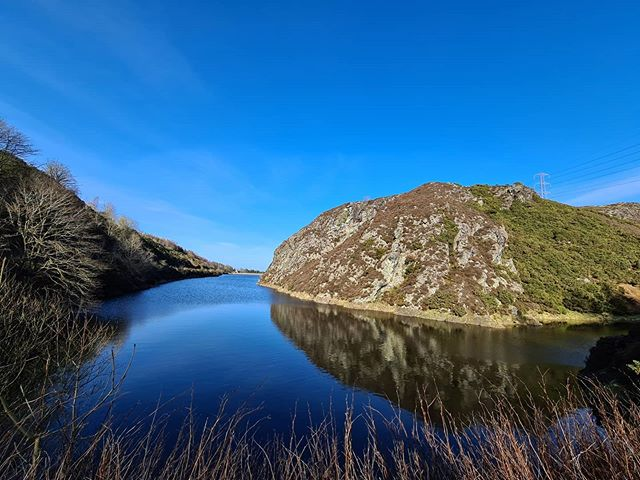mountain: (278, 146, 630, 249)
river: (81, 279, 640, 480)
sky: (20, 1, 640, 188)
